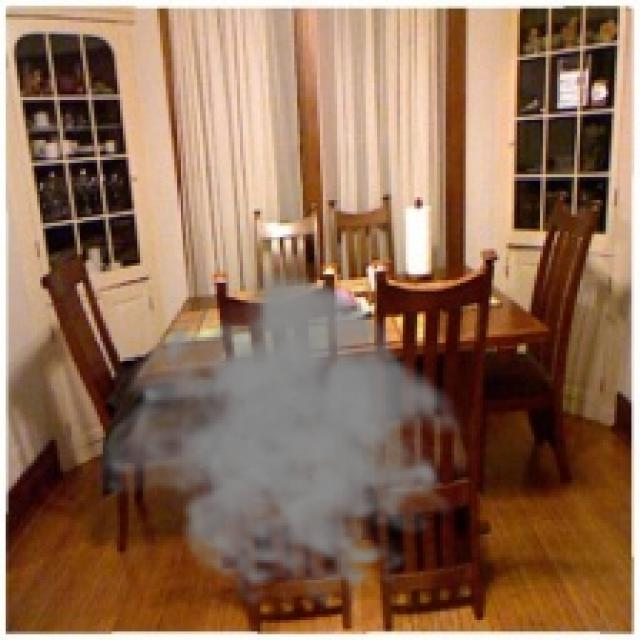smoke: (92, 266, 477, 608)
